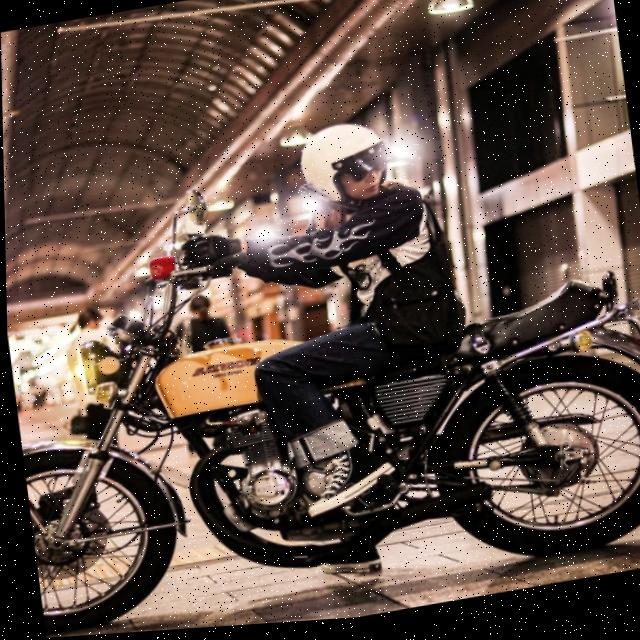helmet: (290, 117, 400, 217)
